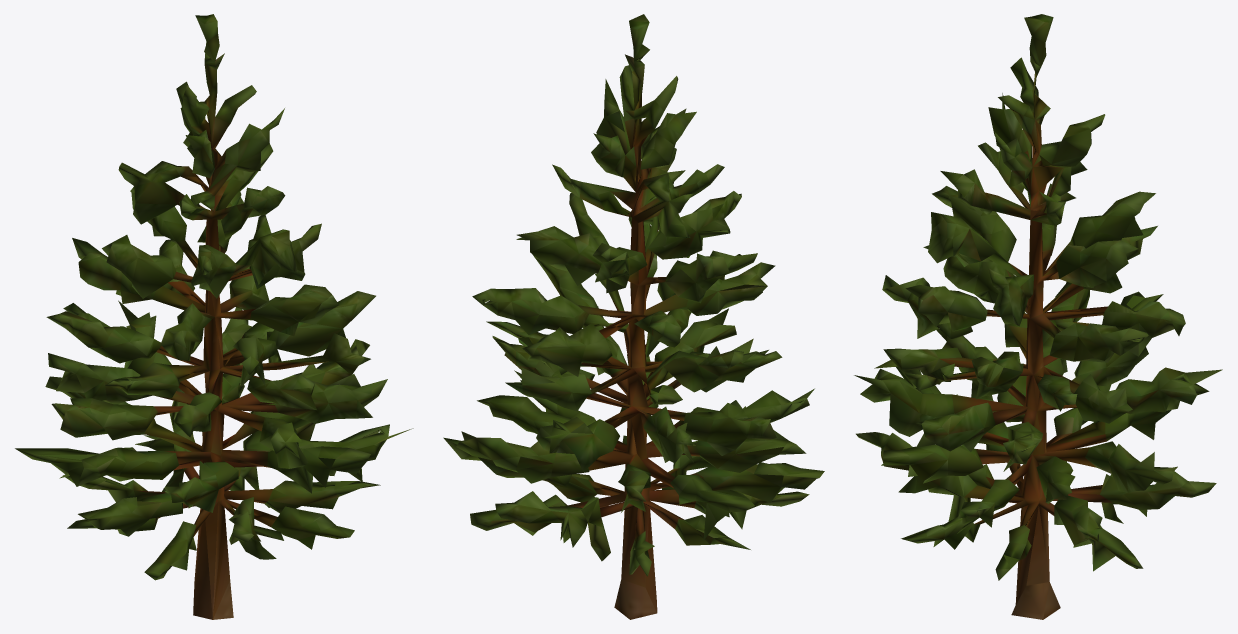
File: pine.glb
3 renders of one model, left to right at view 1: azimuth 30°, elevation 25°; view 2: azimuth 150°, elevation 25°; view 3: azimuth 270°, elevation 25°, orthographic.
Visible parts, largest first — view 1: tripo_node_3ff5abdd; view 2: tripo_node_3ff5abdd; view 3: tripo_node_3ff5abdd.
Part boxes in pixels (<box>): tripo_node_3ff5abdd: <box>15,14,413,619</box>; tripo_node_3ff5abdd: <box>443,14,824,619</box>; tripo_node_3ff5abdd: <box>854,14,1222,619</box>.
Size of the model in its own units: 0.5705 by 1 by 0.5667.
Materials: 1 (1 with a texture image).
